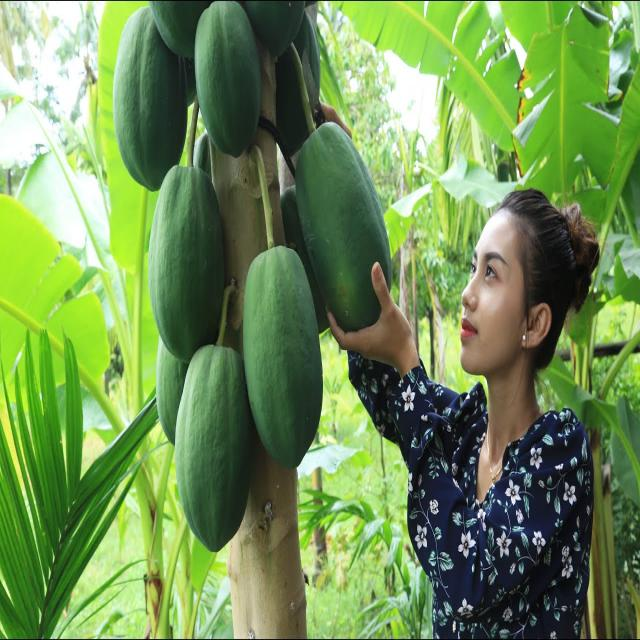Pepaya unrippen: (236, 252, 330, 478), (301, 124, 393, 336), (172, 358, 256, 551), (113, 7, 191, 205), (151, 154, 219, 358), (189, 16, 264, 158)
